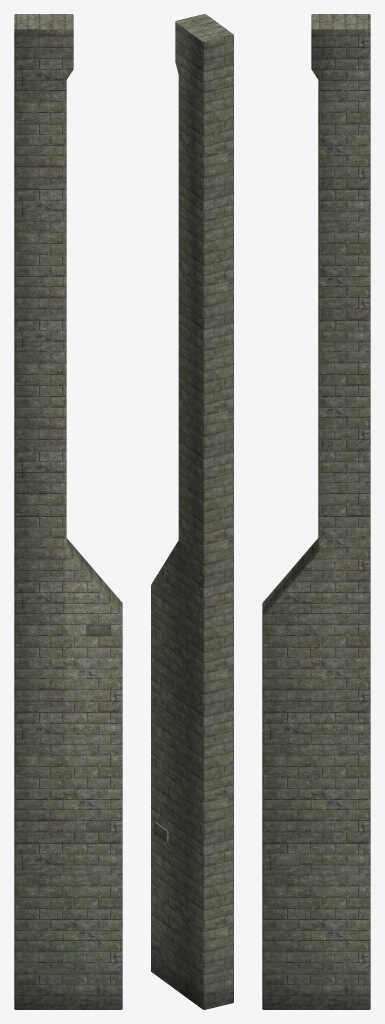
File: wallcorner1.fbx
3 renders of one model, left to right at view 1: azimuth 90°, elevation 25°; view 2: azimuth 210°, elevation 25°; view 3: azimuth 270°, elevation 25°, orthographic.
Parts seen in each view (by area): view 1: Mesh Object; view 2: Mesh Object; view 3: Mesh Object.
Boxes of the visible parts, x1,y1,x2,y2 form: Mesh Object: [14, 14, 122, 1009]; Mesh Object: [151, 14, 233, 1009]; Mesh Object: [262, 14, 370, 1009].
Size of the model in its own units: 0.5601 by 15 by 1.5.
